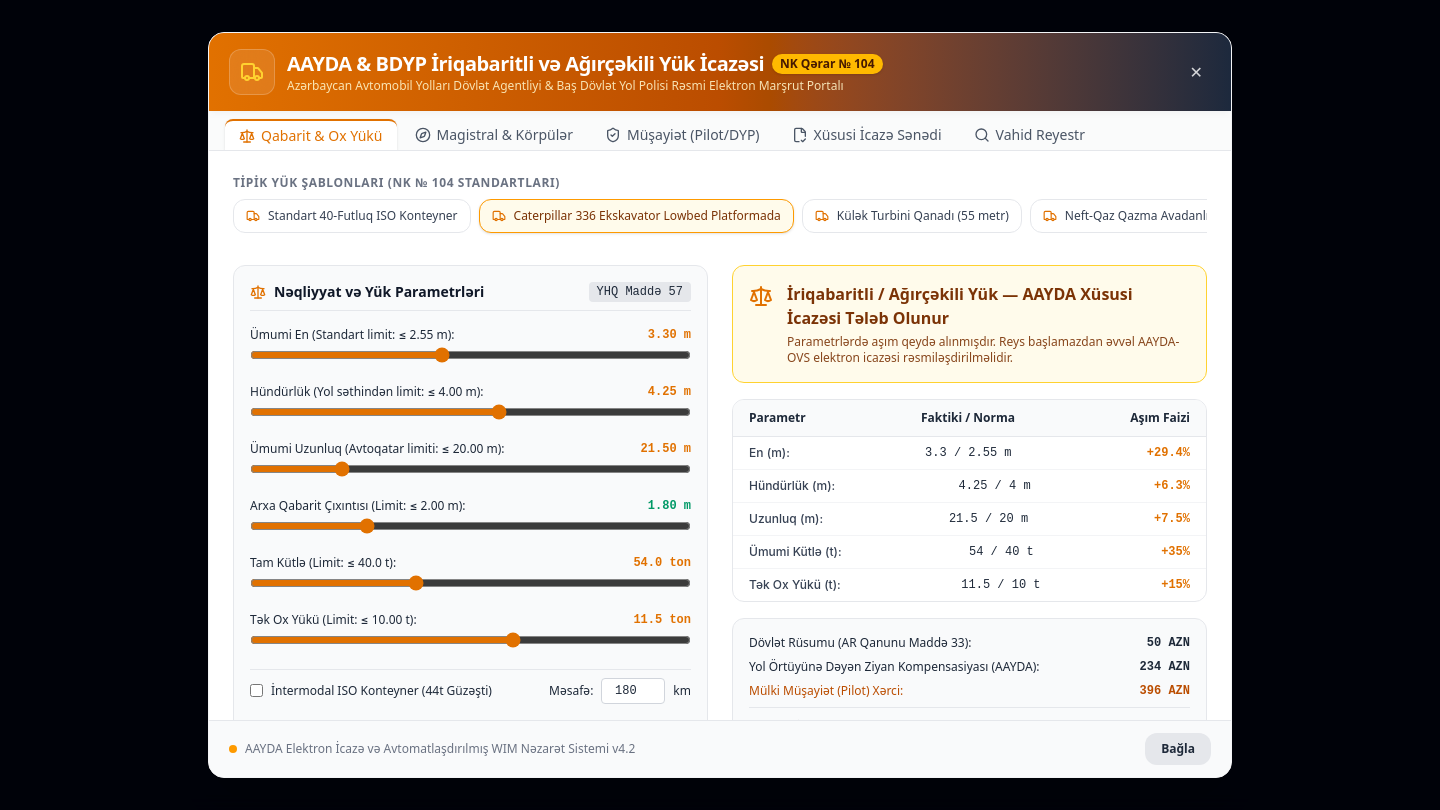
Test case: OversizePermitModal Component › applies standard container preset and updates intermodal status
Click the button "Standart 40-Futluq ISO Konteyner".
click(352, 216)  # box [233,199,470,233]
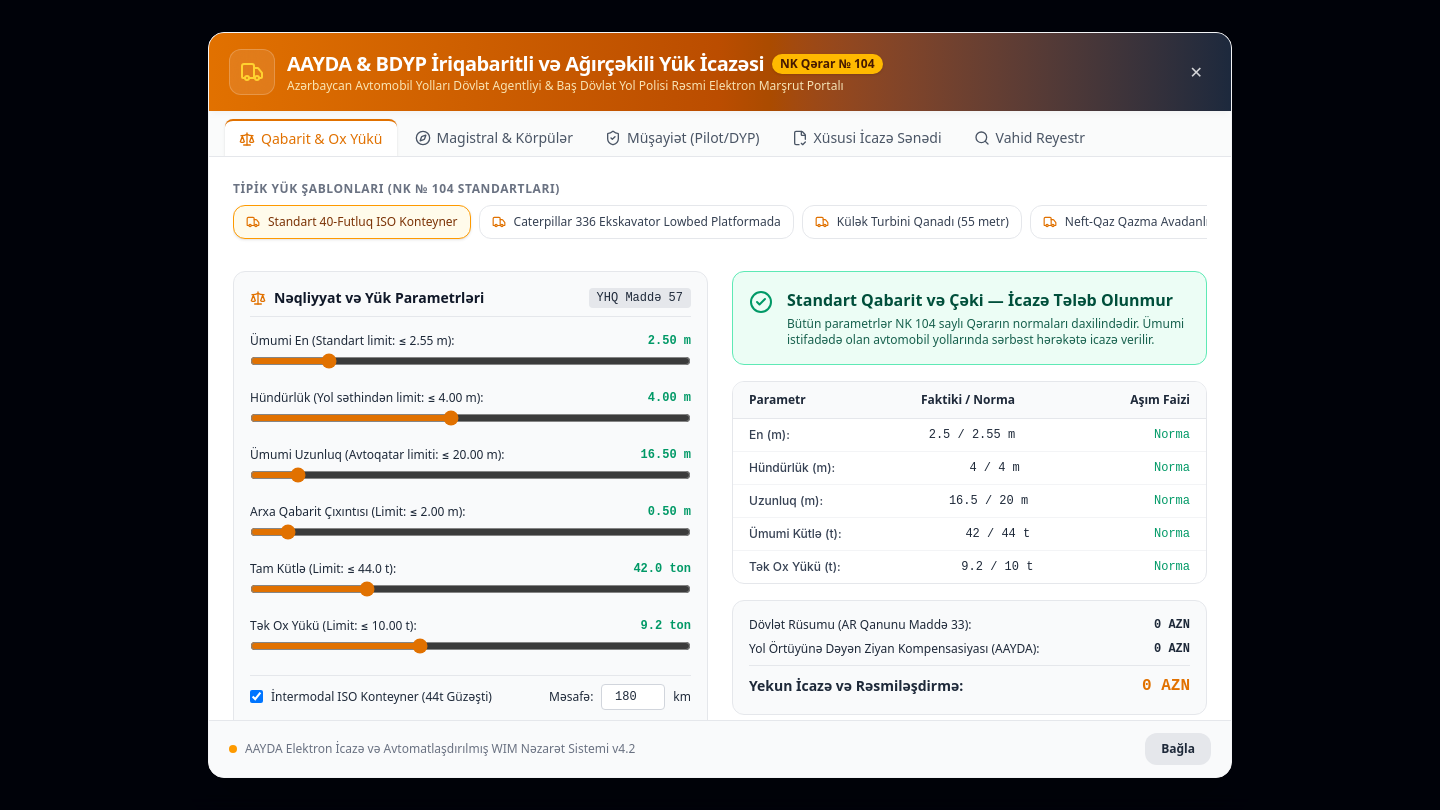
Expected: the checkbox labelled "İntermodal ISO Konteyner (44t Güzəşti)" is checked, [250,690,263,703]
